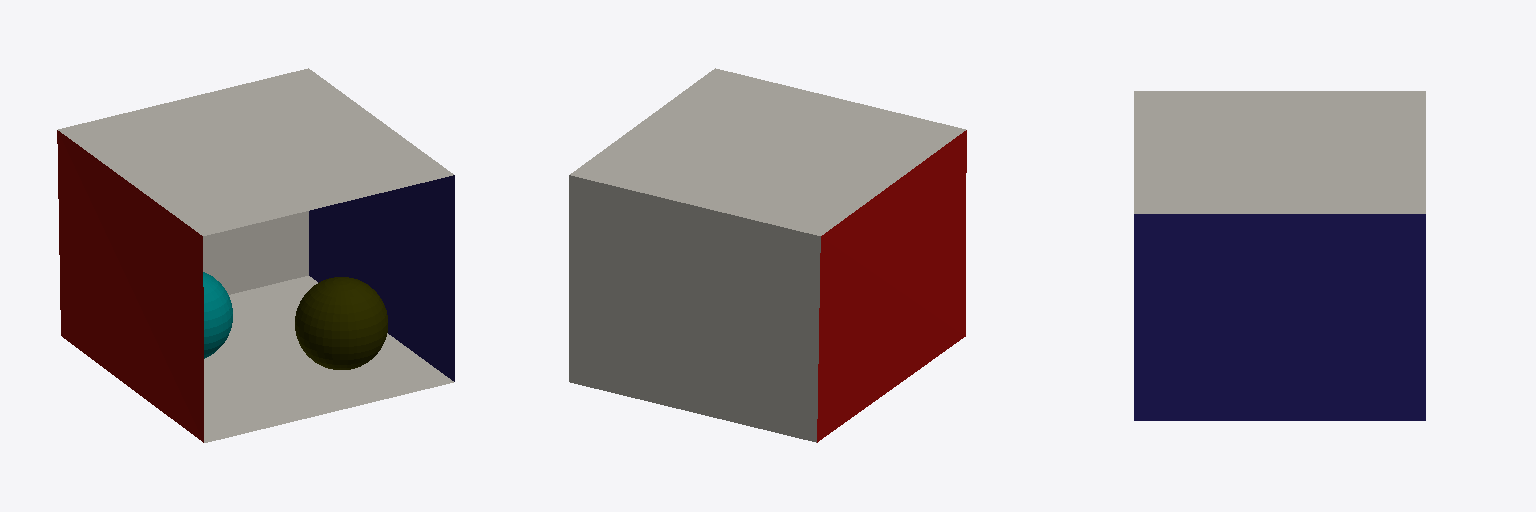
File: CornellBox-Sphere.obj
3 renders of one model, left to right at view 1: azimuth 30°, elevation 25°; view 2: azimuth 150°, elevation 25°; view 3: azimuth 270°, elevation 25°, orthographic.
Visible parts, largest first — view 1: ceiling, leftWall, floor, rightWall, rightSphere, backWall, leftSphere; view 2: backWall, ceiling, leftWall; view 3: rightWall, ceiling.
Part boxes in pixels (x1,y1,x2,y2): ceiling: (58, 68, 453, 235); leftWall: (57, 130, 203, 442); floor: (204, 276, 453, 442); rightWall: (309, 175, 454, 381); rightSphere: (295, 277, 387, 369); backWall: (203, 211, 308, 294); leftSphere: (203, 272, 232, 358); backWall: (569, 175, 820, 442); ceiling: (570, 68, 965, 235); leftWall: (817, 130, 966, 442); rightWall: (1134, 214, 1425, 420); ceiling: (1134, 91, 1425, 213).
Size of the model in its own units: 2.02 by 1.59 by 2.03.